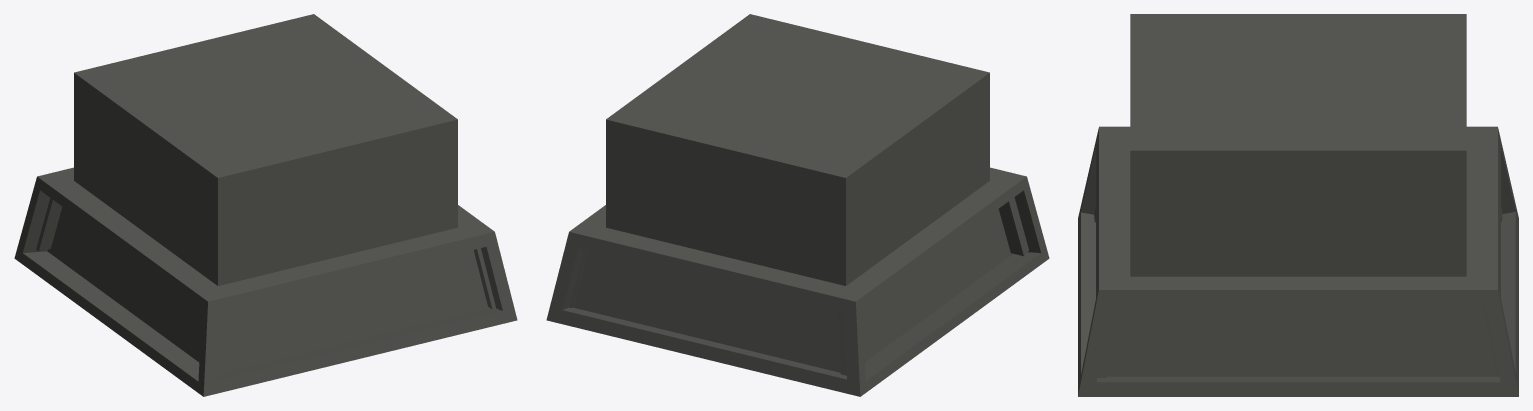
The model's file is Assembler2.fbx.
3 views of the same model, side by side, from view 1: azimuth 30°, elevation 25°; view 2: azimuth 150°, elevation 25°; view 3: azimuth 270°, elevation 25° (orthographic). The views are drawn at different scales.
Parts seen in each view (by area): view 1: Assembler2; view 2: Assembler2; view 3: Assembler2.
Boxes of the visible parts, box(x1,y1,x2,y2) form: Assembler2: box(14, 14, 517, 396); Assembler2: box(546, 14, 1049, 396); Assembler2: box(1078, 14, 1518, 396).
Bounding box in the file's own units: 51.16 × 30.11 × 53.39.
